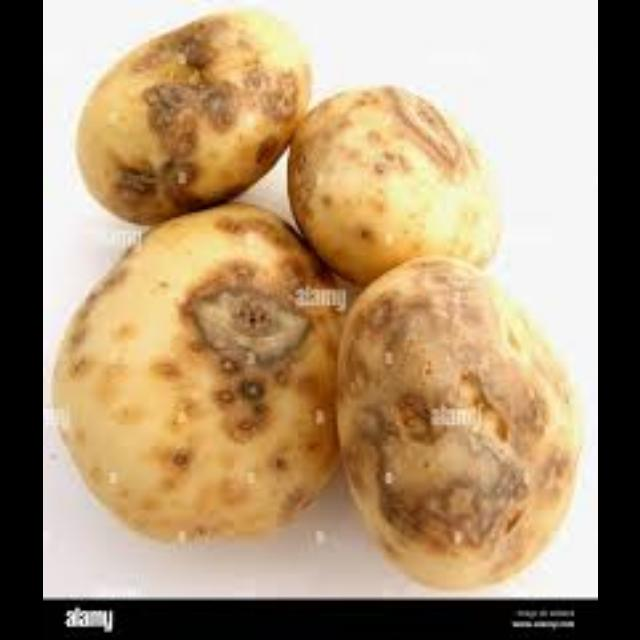Diseased-fungal potato: (47, 192, 355, 560), (318, 252, 588, 592), (75, 6, 302, 218), (276, 70, 496, 286)
